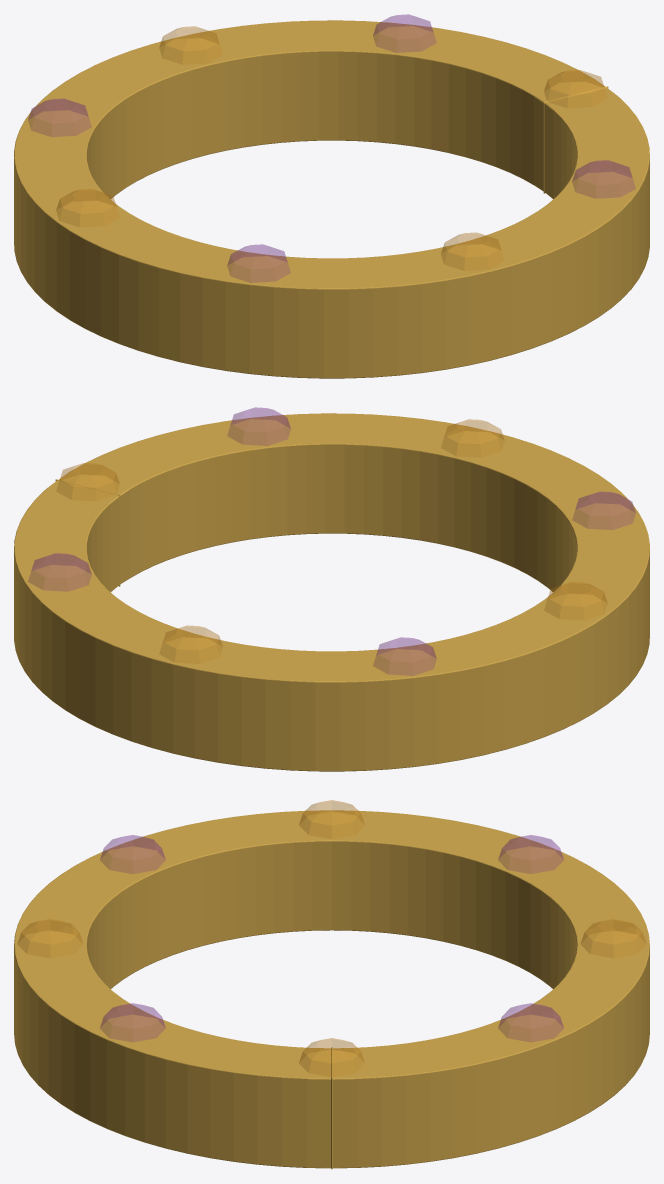
3 renders of one model, top to bottom at view 1: azimuth 30°, elevation 25°; view 2: azimuth 150°, elevation 25°; view 3: azimuth 270°, elevation 25°, orthographic.
Visible parts, largest first — view 1: TI021 / broad 24ct ring, TI021 / inset ultropaz 2, TI021 / inset alexandrite 7, TI021 / inset ultropaz 0, TI021 / inset alexandrite 5, TI021 / inset ultropaz 4, TI021 / inset alexandrite 3, TI021 / inset ultropaz 6, TI021 / inset alexandrite 1; view 2: TI021 / broad 24ct ring, TI021 / inset ultropaz 6, TI021 / inset alexandrite 1, TI021 / inset ultropaz 0, TI021 / inset alexandrite 3, TI021 / inset ultropaz 4, TI021 / inset alexandrite 5, TI021 / inset ultropaz 2, TI021 / inset alexandrite 7; view 3: TI021 / broad 24ct ring, TI021 / inset ultropaz 2, TI021 / inset ultropaz 6, TI021 / inset alexandrite 3, TI021 / inset alexandrite 5, TI021 / inset ultropaz 4, TI021 / inset ultropaz 0, TI021 / inset alexandrite 1, TI021 / inset alexandrite 7.
Part boxes in pixels (<box>): TI021 / broad 24ct ring: <box>14,20,649,378</box>; TI021 / inset ultropaz 2: <box>159,26,222,64</box>; TI021 / inset alexandrite 7: <box>572,160,635,198</box>; TI021 / inset ultropaz 0: <box>544,70,607,107</box>; TI021 / inset alexandrite 5: <box>227,244,290,282</box>; TI021 / inset ultropaz 4: <box>56,189,119,226</box>; TI021 / inset alexandrite 3: <box>28,99,91,136</box>; TI021 / inset ultropaz 6: <box>441,232,504,270</box>; TI021 / inset alexandrite 1: <box>373,14,436,52</box>; TI021 / broad 24ct ring: <box>14,413,649,771</box>; TI021 / inset ultropaz 6: <box>441,419,504,457</box>; TI021 / inset alexandrite 1: <box>28,553,91,591</box>; TI021 / inset ultropaz 0: <box>56,463,119,500</box>; TI021 / inset alexandrite 3: <box>373,637,436,675</box>; TI021 / inset ultropaz 4: <box>544,582,607,619</box>; TI021 / inset alexandrite 5: <box>572,492,635,529</box>; TI021 / inset ultropaz 2: <box>159,625,222,663</box>; TI021 / inset alexandrite 7: <box>227,407,290,445</box>; TI021 / broad 24ct ring: <box>14,810,649,1169</box>; TI021 / inset ultropaz 2: <box>581,919,646,957</box>; TI021 / inset ultropaz 6: <box>17,919,82,957</box>; TI021 / inset alexandrite 3: <box>498,835,563,873</box>; TI021 / inset alexandrite 5: <box>100,835,165,873</box>; TI021 / inset ultropaz 4: <box>299,800,364,838</box>; TI021 / inset ultropaz 0: <box>299,1038,364,1076</box>; TI021 / inset alexandrite 1: <box>498,1003,563,1041</box>; TI021 / inset alexandrite 7: <box>100,1003,165,1041</box>.
Bounding box in the file's own units: 1.92 × 0.3647 × 1.92.
